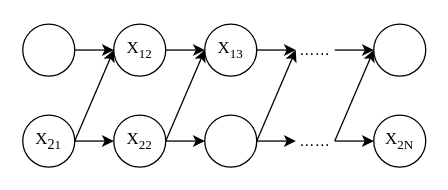
This 448x190 diagram has some shape labels left out. Each missing label, with the centre of its shape:
"X 11" belongs at [48,49].
"X 1N" belongs at [399,49].
"X 23" belongs at [230,140].
